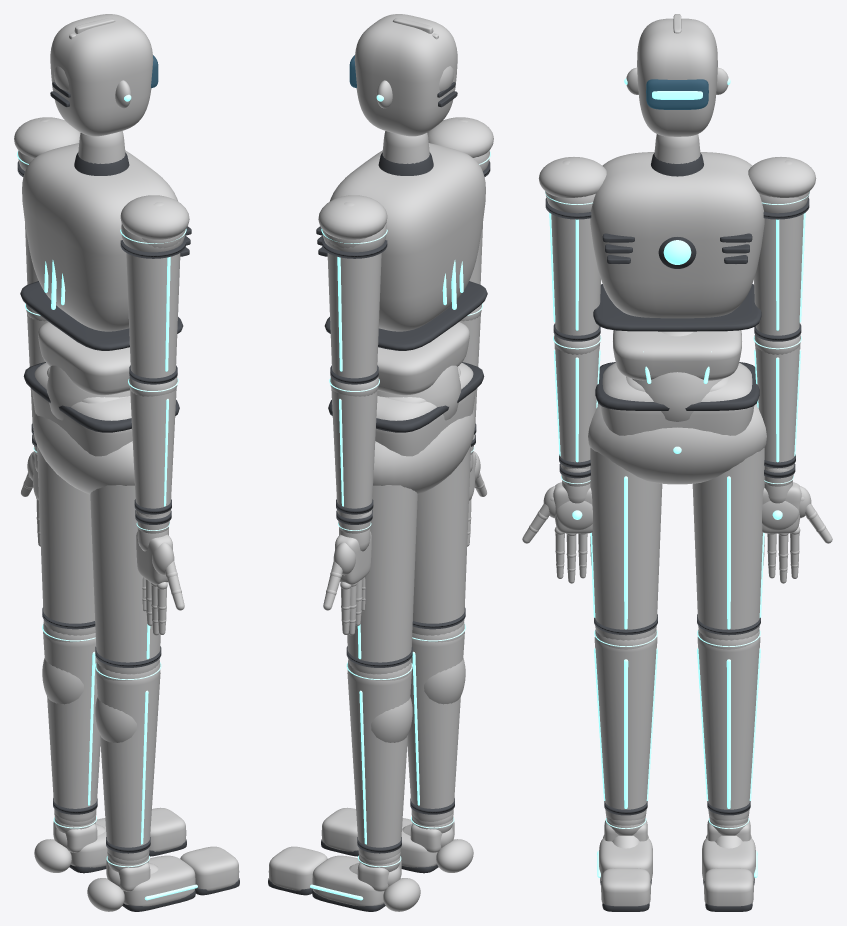
The model's file is humanoid_robot.glb.
The picture shows the model from 3 angles, left to right: view 1: azimuth 30°, elevation 25°; view 2: azimuth 150°, elevation 25°; view 3: azimuth 270°, elevation 25°; orthographic projection. The views are drawn at different scales.
Visible parts, largest first — view 1: chest, head, r_shank, pelvis, r_thigh, l_shank, l_thigh, r_upper_arm, r_forearm, r_foot, spine_upper, r_shoulder (+10 smaller); view 2: chest, head, l_shank, pelvis, l_thigh, r_shank, r_thigh, l_upper_arm, l_forearm, l_foot, spine_upper, l_shoulder (+10 smaller); view 3: chest, pelvis, l_thigh, r_thigh, l_shank, r_shank, head, spine_upper, l_upper_arm, r_upper_arm, l_forearm, r_forearm (+11 smaller).
Part boxes in pixels (left/top/right/bottom): chest: left=20, top=143, right=191, bottom=350; head: left=50, top=14, right=158, bottom=136; r_shank: left=95, top=660, right=161, bottom=864; pelvis: left=23, top=362, right=179, bottom=494; r_thigh: left=90, top=485, right=161, bottom=674; l_shank: left=42, top=621, right=100, bottom=825; l_thigh: left=37, top=445, right=95, bottom=635; r_upper_arm: left=126, top=253, right=180, bottom=384; r_forearm: left=128, top=376, right=178, bottom=518; r_foot: left=87, top=855, right=197, bottom=911; spine_upper: left=38, top=322, right=130, bottom=395; r_shoulder: left=120, top=195, right=189, bottom=258; chest: left=316, top=143, right=487, bottom=350; head: left=349, top=14, right=457, bottom=136; l_shank: left=346, top=660, right=412, bottom=864; pelvis: left=328, top=362, right=484, bottom=494; l_thigh: left=346, top=485, right=417, bottom=674; r_shank: left=407, top=621, right=465, bottom=825; r_thigh: left=412, top=445, right=470, bottom=635; l_upper_arm: left=327, top=253, right=381, bottom=384; l_forearm: left=329, top=376, right=379, bottom=518; l_foot: left=310, top=855, right=420, bottom=911; spine_upper: left=377, top=322, right=469, bottom=395; l_shoulder: left=318, top=195, right=387, bottom=258; chest: left=590, top=152, right=764, bottom=331; pelvis: left=588, top=331, right=766, bottom=484; l_thigh: left=692, top=448, right=764, bottom=640; r_thigh: left=590, top=448, right=662, bottom=640; l_shank: left=697, top=629, right=760, bottom=825; r_shank: left=594, top=629, right=657, bottom=825; head: left=624, top=14, right=730, bottom=136; spine_upper: left=613, top=330, right=741, bottom=383; l_upper_arm: left=754, top=213, right=805, bottom=341; r_upper_arm: left=549, top=213, right=600, bottom=341; l_forearm: left=753, top=334, right=801, bottom=472; r_forearm: left=553, top=334, right=601, bottom=472.
Bounding box in the file's own units: 0.3218 × 1.71 × 0.5724.
